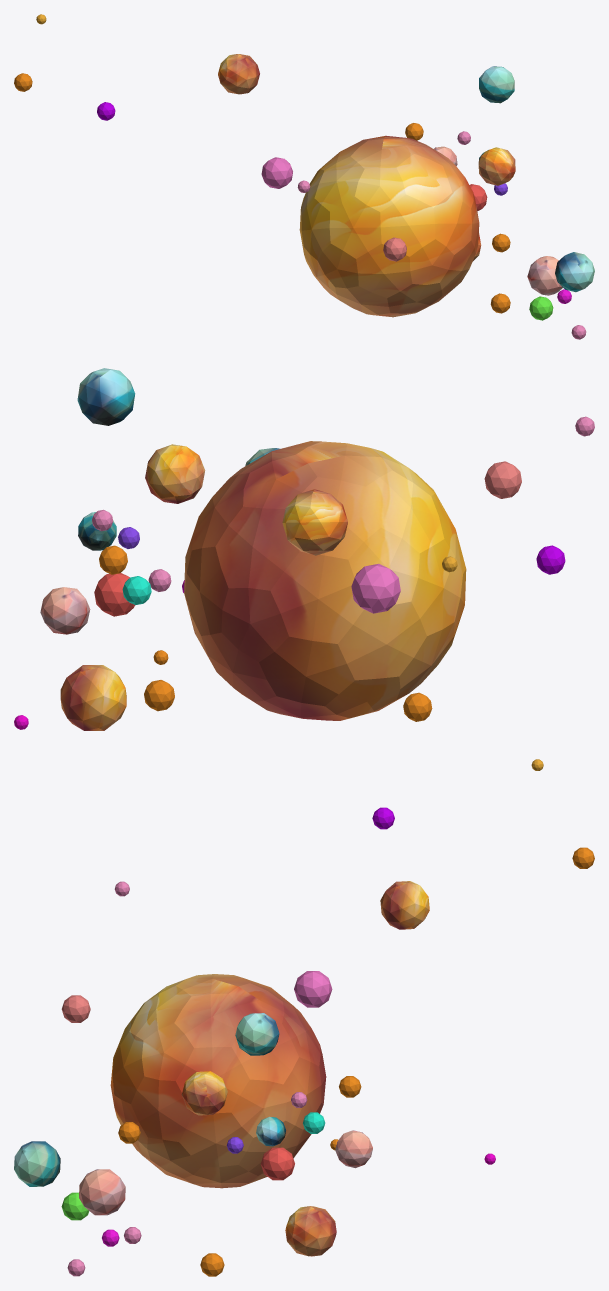
The model's file is colorfulPlanet.gltf.
3 views of the same model, one above another, from view 1: azimuth 30°, elevation 25°; view 2: azimuth 150°, elevation 25°; view 3: azimuth 270°, elevation 25° (orthographic). The views are drawn at different scales.
Visible parts, largest first — view 1: Icosphere, Icosphere003, Icosphere012, Icosphere001, Icosphere014, Icosphere015, Icosphere018, Icosphere023, Icosphere021; view 2: Icosphere, Icosphere002, Icosphere003, Icosphere001, Icosphere014, Icosphere018, Icosphere016, Icosphere004, Icosphere023, Icosphere013, Icosphere010, Icosphere026 (+3 smaller); view 3: Icosphere, Icosphere002, Icosphere003, Icosphere015, Icosphere012, Icosphere001, Icosphere014, Icosphere018, Icosphere016, Icosphere004, Icosphere013.
Part boxes in pixels (<box>): Icosphere: <box>299,135,479,317</box>; Icosphere003: <box>218,54,259,94</box>; Icosphere012: <box>555,252,594,292</box>; Icosphere001: <box>478,147,515,185</box>; Icosphere014: <box>479,66,514,103</box>; Icosphere015: <box>527,256,562,295</box>; Icosphere018: <box>261,157,292,188</box>; Icosphere023: <box>383,237,406,261</box>; Icosphere021: <box>529,296,553,320</box>; Icosphere: <box>184,441,466,720</box>; Icosphere002: <box>60,665,126,730</box>; Icosphere003: <box>282,489,347,555</box>; Icosphere001: <box>145,444,205,503</box>; Icosphere014: <box>77,368,135,425</box>; Icosphere018: <box>351,563,400,613</box>; Icosphere016: <box>40,587,90,634</box>; Icosphere004: <box>94,573,134,616</box>; Icosphere023: <box>484,461,521,498</box>; Icosphere013: <box>78,512,116,550</box>; Icosphere010: <box>144,680,174,711</box>; Icosphere026: <box>536,545,565,574</box>; Icosphere: <box>110,974,326,1188</box>; Icosphere002: <box>285,1206,336,1256</box>; Icosphere003: <box>380,881,429,929</box>; Icosphere015: <box>79,1169,125,1215</box>; Icosphere012: <box>14,1141,60,1186</box>; Icosphere001: <box>181,1071,227,1115</box>; Icosphere014: <box>235,1013,279,1055</box>; Icosphere018: <box>294,971,332,1007</box>; Icosphere016: <box>335,1130,372,1168</box>; Icosphere004: <box>261,1147,294,1180</box>; Icosphere013: <box>256,1116,285,1146</box>.
Size of the model in its own units: 13.91 by 9.94 by 15.91.
Materials: 28 (9 with a texture image).
